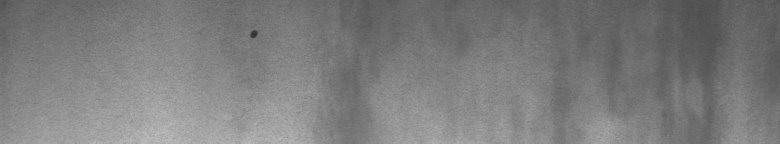fi: (245, 20, 263, 48)
